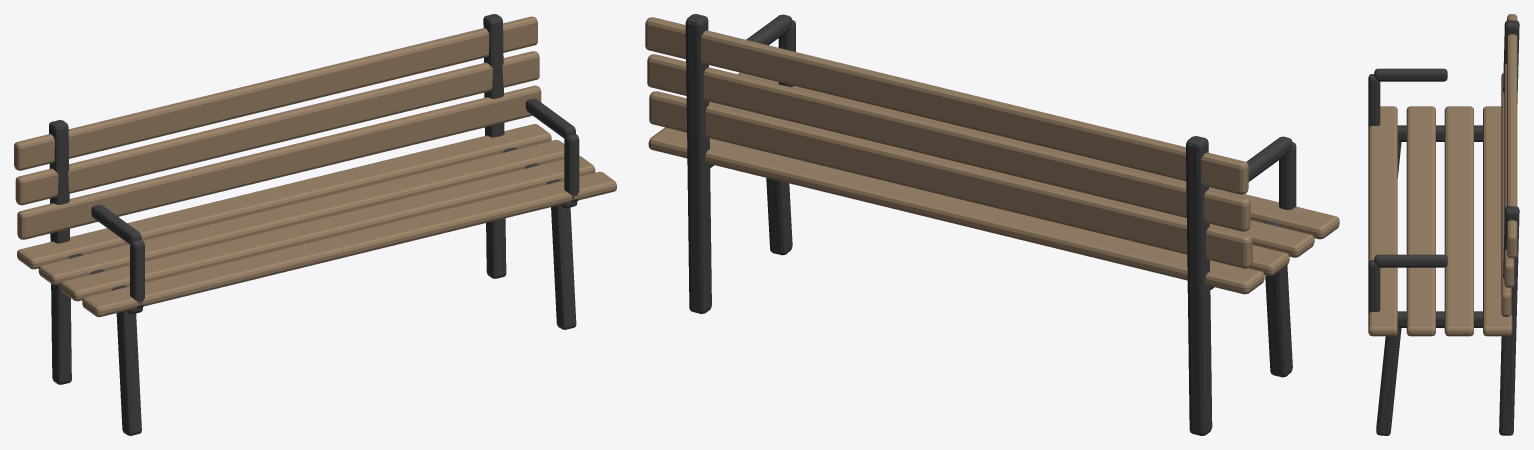
File: ParkBench.fbx
The picture shows the model from 3 angles, left to right: view 1: azimuth 30°, elevation 25°; view 2: azimuth 150°, elevation 25°; view 3: azimuth 270°, elevation 25°; orthographic projection. The views are drawn at different scales.
Parts seen in each view (by area): view 1: ParkBench; view 2: ParkBench; view 3: ParkBench.
Part boxes in pixels (x1,y1,x2,y2): ParkBench: (14, 14, 616, 435); ParkBench: (645, 14, 1339, 435); ParkBench: (1368, 14, 1519, 435).
Size of the model in its own units: 1.8 by 0.8515 by 0.5147.
